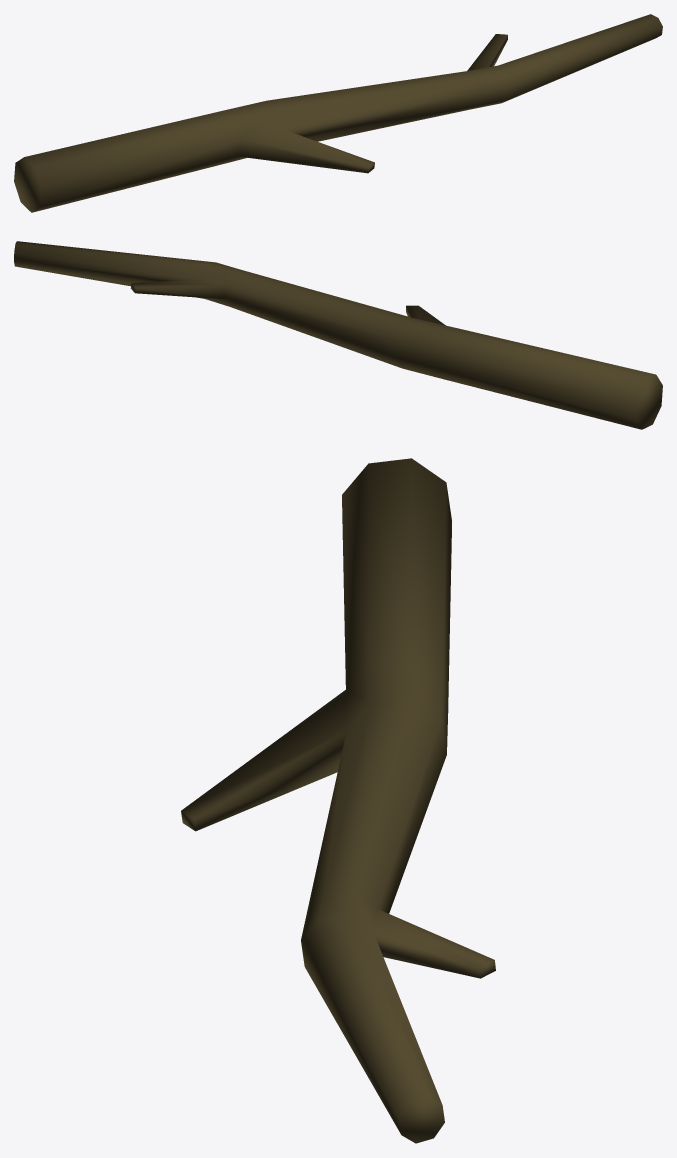
Rendered from galho.fbx.
The picture shows the model from 3 angles, top to bottom: view 1: azimuth 30°, elevation 25°; view 2: azimuth 150°, elevation 25°; view 3: azimuth 270°, elevation 25°; orthographic projection. The views are drawn at different scales.
Parts seen in each view (by area): view 1: Cylinder; view 2: Cylinder; view 3: Cylinder.
Boxes of the visible parts, x1=… form: Cylinder: x1=14, y1=14, x2=662, y2=212; Cylinder: x1=14, y1=241, x2=662, y2=429; Cylinder: x1=181, y1=458, x2=495, y2=1143.
Size of the model in its own units: 44.16 by 204 by 15.45.
